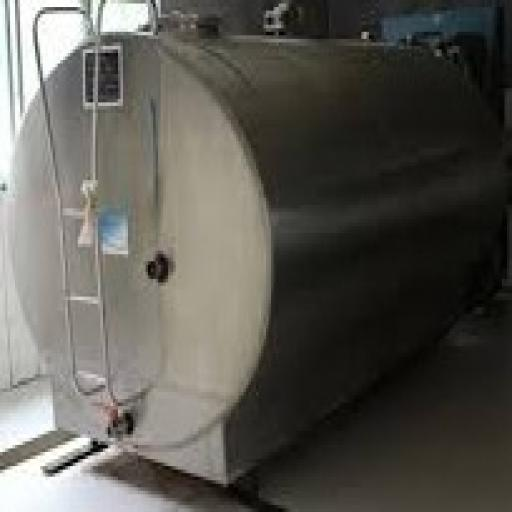silo: (10, 14, 507, 480)
